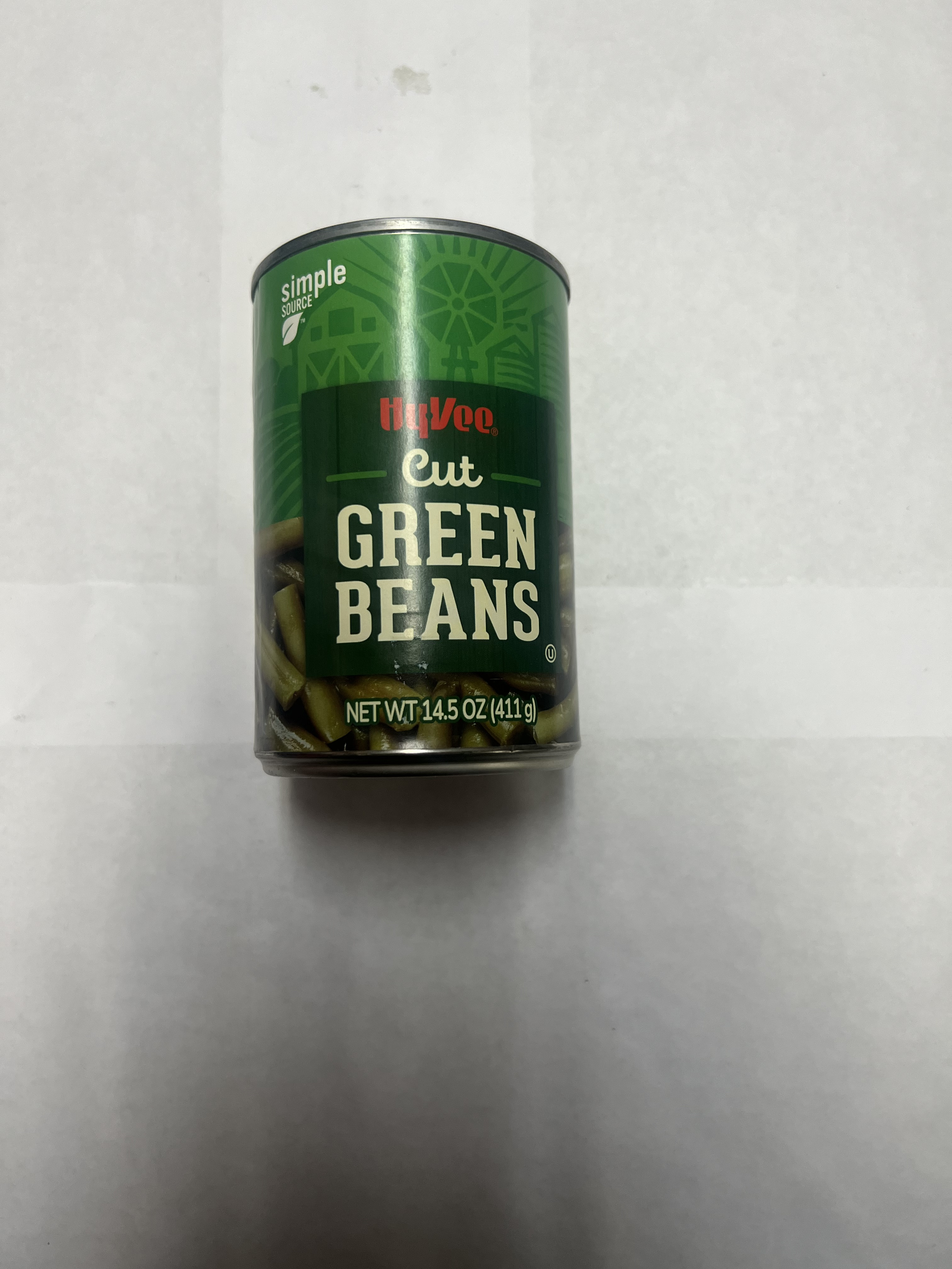packaged: (244, 212, 587, 781)
